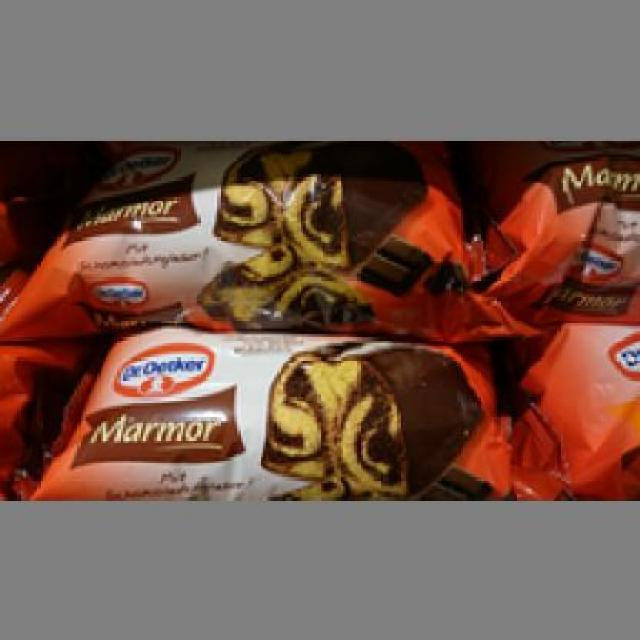Cake: (6, 146, 488, 320), (29, 328, 518, 494)
